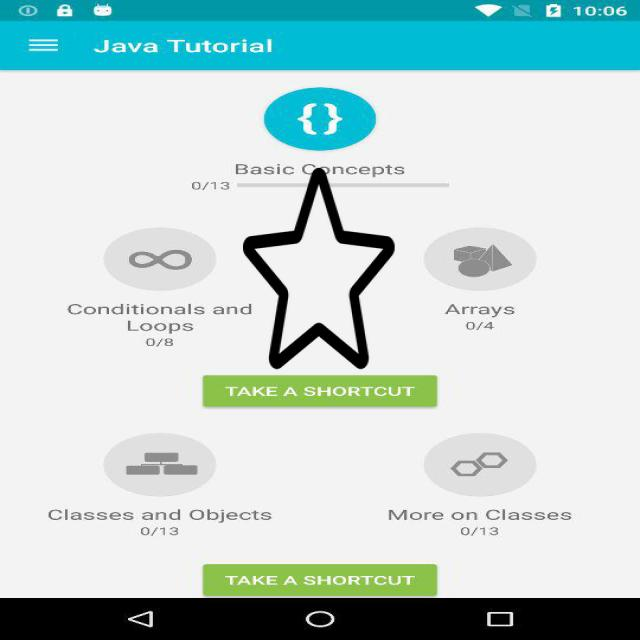forced continuity: (243, 164, 395, 374)
